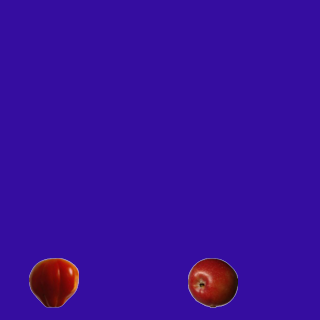Apple Braeburn: (187, 257, 237, 307)
Tomato 1: (28, 257, 78, 307)
